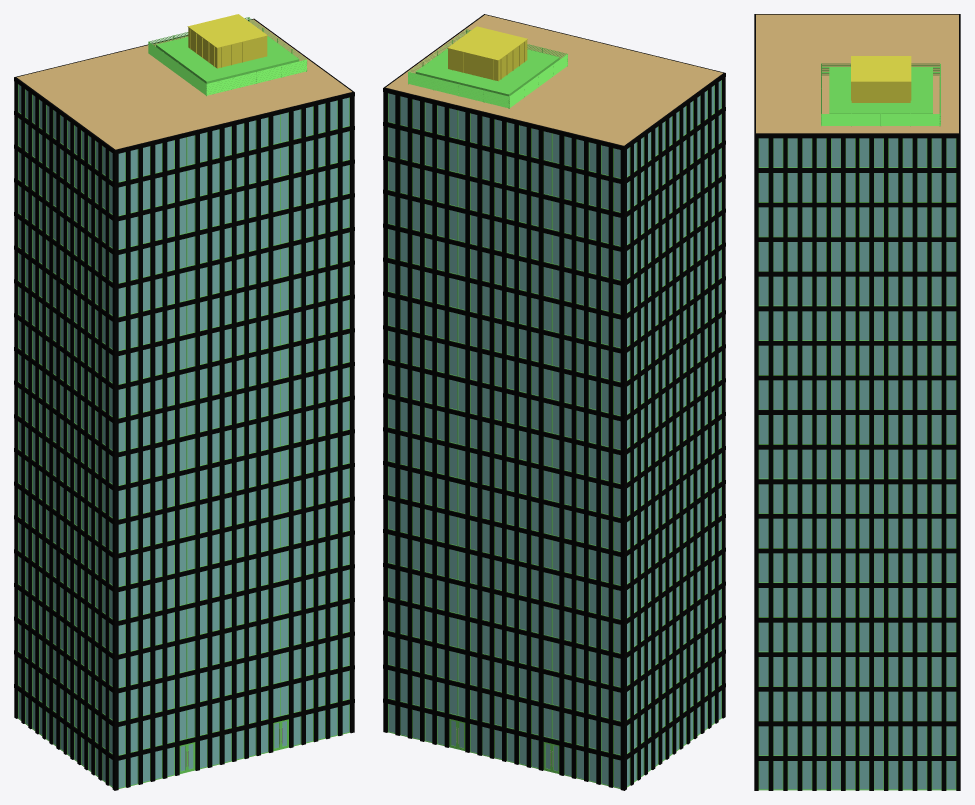
File: Building_5_2.FBX
3 renders of one model, left to right at view 1: azimuth 30°, elevation 25°; view 2: azimuth 150°, elevation 25°; view 3: azimuth 270°, elevation 25°, orthographic. The views are drawn at different scales.
Parts seen in each view (by area): view 1: B5-mod-2_LOD0; view 2: B5-mod-2_LOD0; view 3: B5-mod-2_LOD0.
Part boxes in pixels (bbox=[...]): B5-mod-2_LOD0: bbox=[14, 14, 354, 790]; B5-mod-2_LOD0: bbox=[383, 14, 725, 790]; B5-mod-2_LOD0: bbox=[754, 14, 960, 790].
Size of what is drawn, in the model's own units: 2399 by 6418 by 1741.
